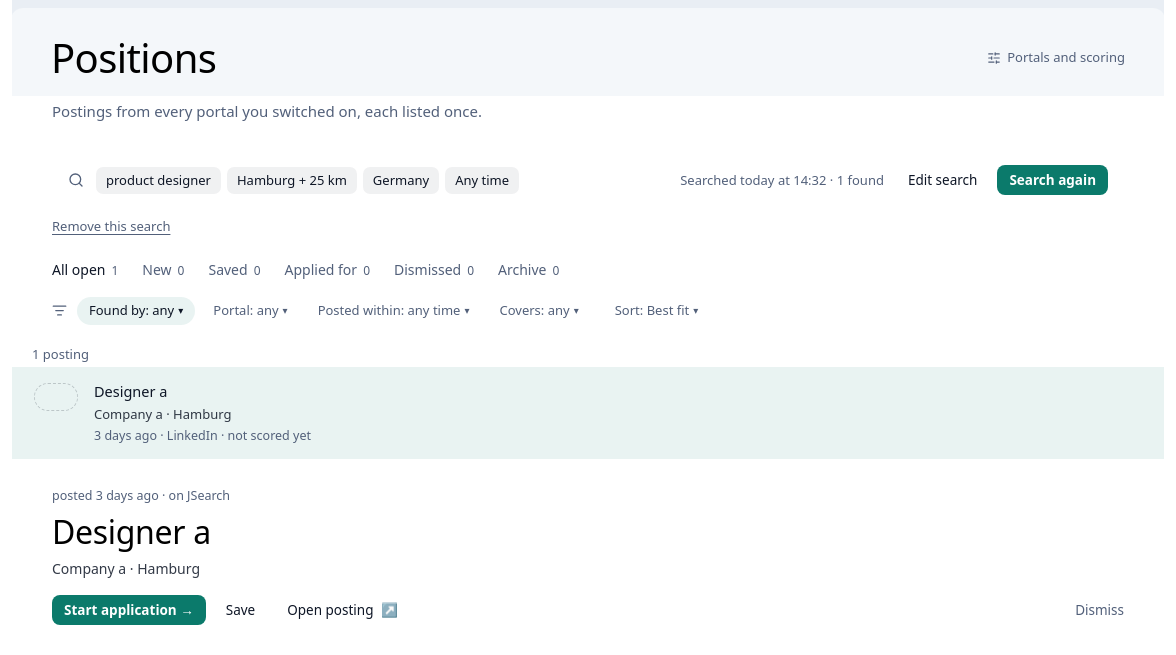
Test case: problems › just says so when the quota is used up
Click the button "Search again" at (1053, 180), box x1=997 y1=165 x2=1108 y2=195
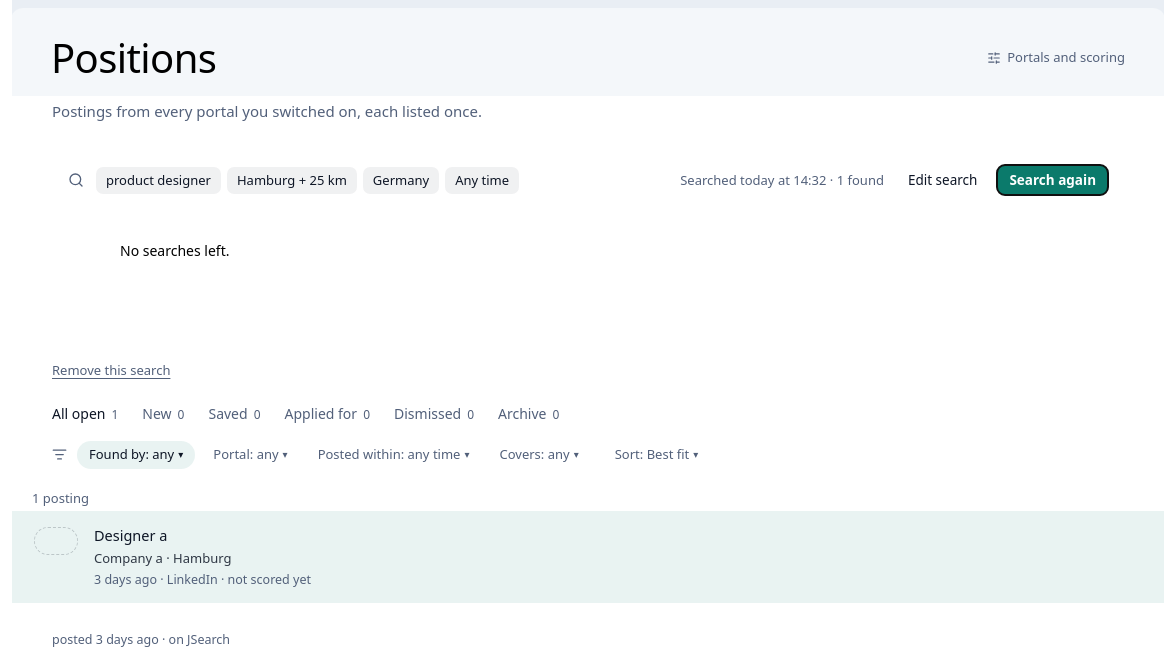
Expected: the message reads "No searches left.", x1=120 y1=241 x2=230 y2=260
